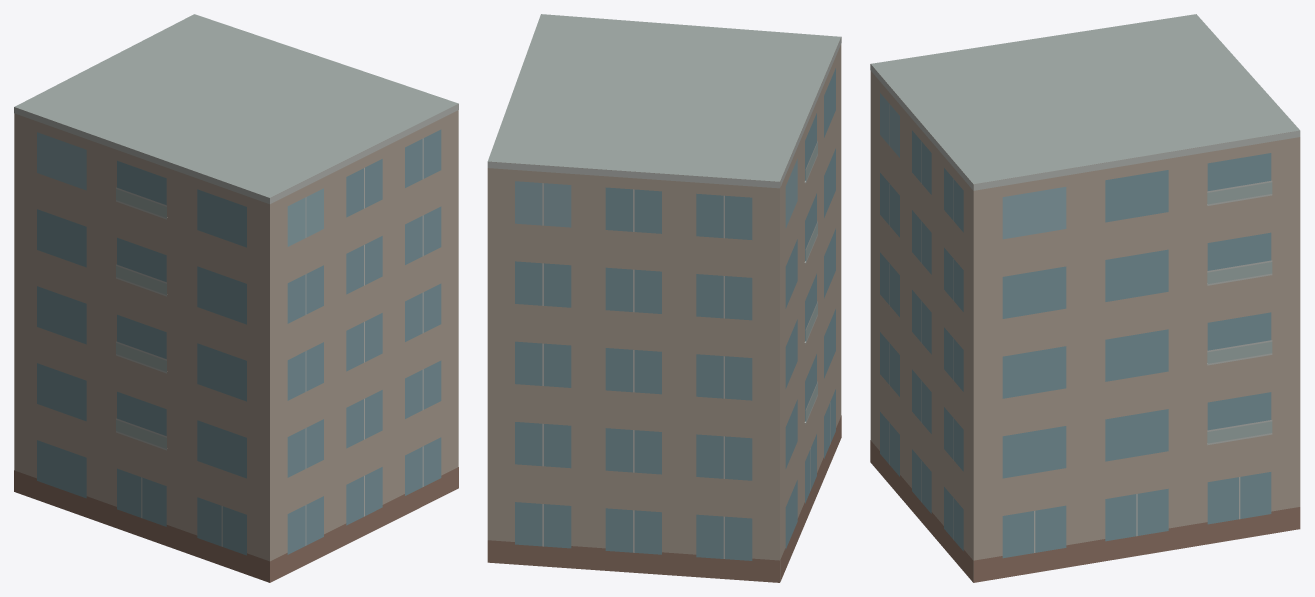
Rendered from survey-upis-32830658.glb.
3 views of the same model, side by side, from view 1: azimuth 30°, elevation 25°; view 2: azimuth 150°, elevation 25°; view 3: azimuth 270°, elevation 25° (orthographic). The views are drawn at different scales.
Parts seen in each view (by area): view 1: survey-upis-32830658.tmp; view 2: survey-upis-32830658.tmp; view 3: survey-upis-32830658.tmp.
Boxes of the visible parts, <box> form: survey-upis-32830658.tmp: <box>14,14,458,582</box>; survey-upis-32830658.tmp: <box>487,14,841,582</box>; survey-upis-32830658.tmp: <box>870,14,1300,582</box>.
Bounding box in the file's own units: 13.62 × 14.85 × 14.52.
